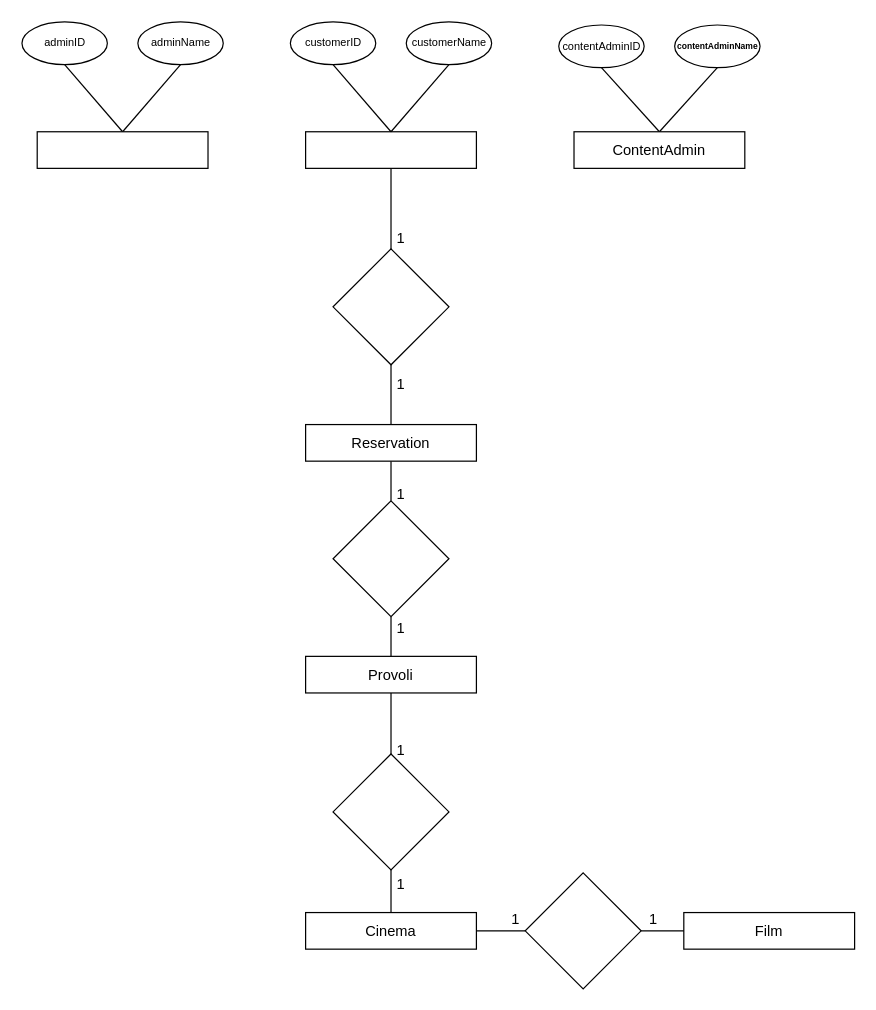
This 876x1010 diagram has some shape labels left out. Each missing label, with the box of its shape:
Admin: (36, 131, 208, 168)
AssignTo: (524, 872, 641, 989)
ChooseMovie: (332, 500, 449, 617)
Customer: (304, 131, 476, 168)
MakeReservation: (332, 248, 449, 365)
PlayedIn: (332, 753, 449, 870)
